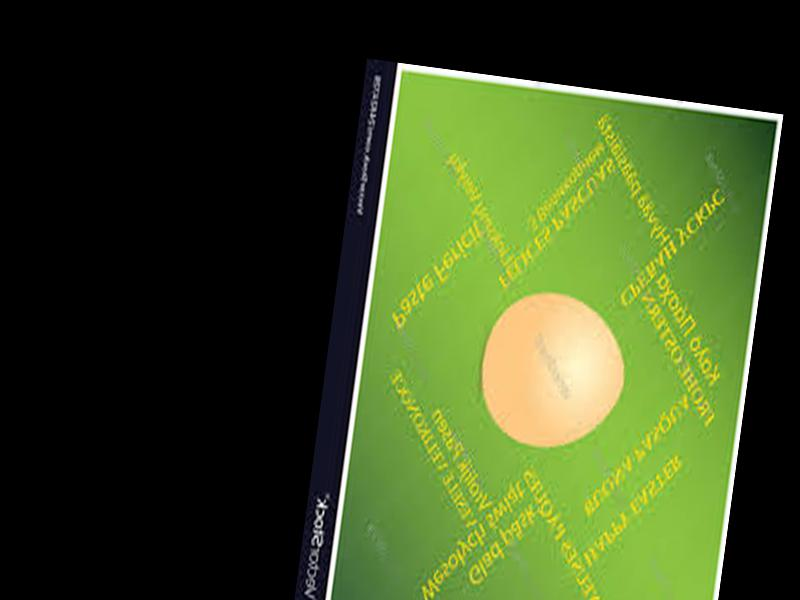Eggs: (474, 284, 630, 454)
